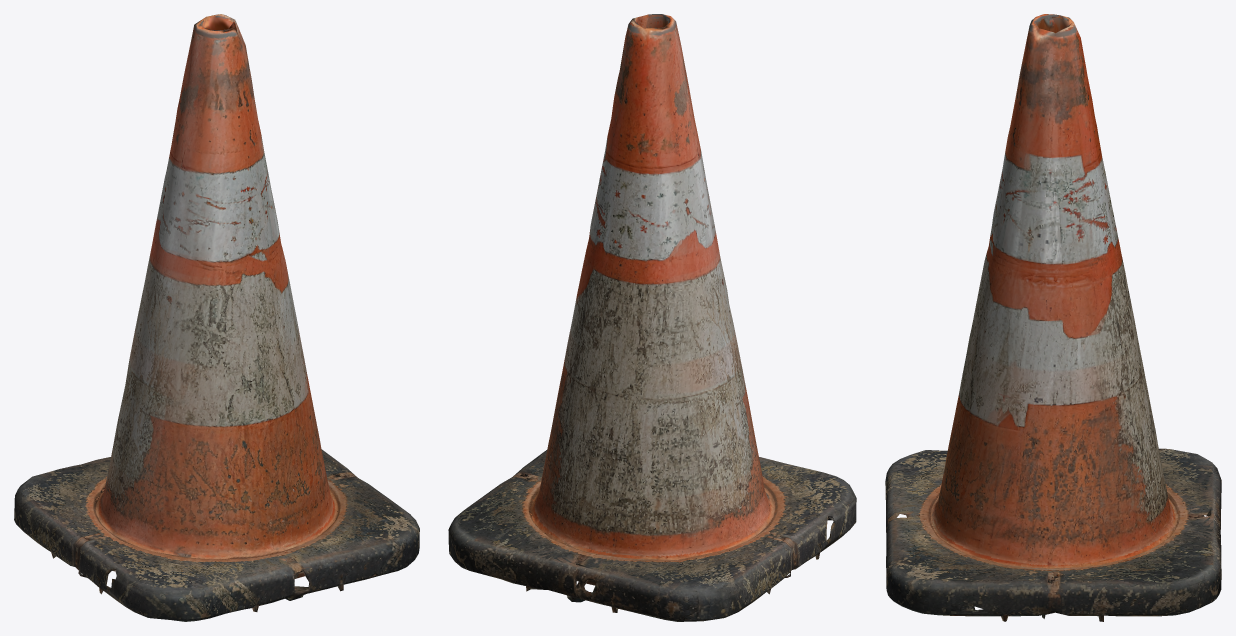
The model's file is TrafficCone.glb.
The picture shows the model from 3 angles, left to right: view 1: azimuth 30°, elevation 25°; view 2: azimuth 150°, elevation 25°; view 3: azimuth 270°, elevation 25°; orthographic projection. The views are drawn at different scales.
Visible parts, largest first — view 1: texture_mapping; view 2: texture_mapping; view 3: texture_mapping.
Boxes of the visible parts, box(x1,y1,x2,y2) form: texture_mapping: box(14, 14, 419, 621); texture_mapping: box(448, 14, 856, 621); texture_mapping: box(885, 14, 1221, 621).
Size of the model in its own units: 0.5751 by 1 by 0.575.
Materials: 1 (1 with a texture image).
